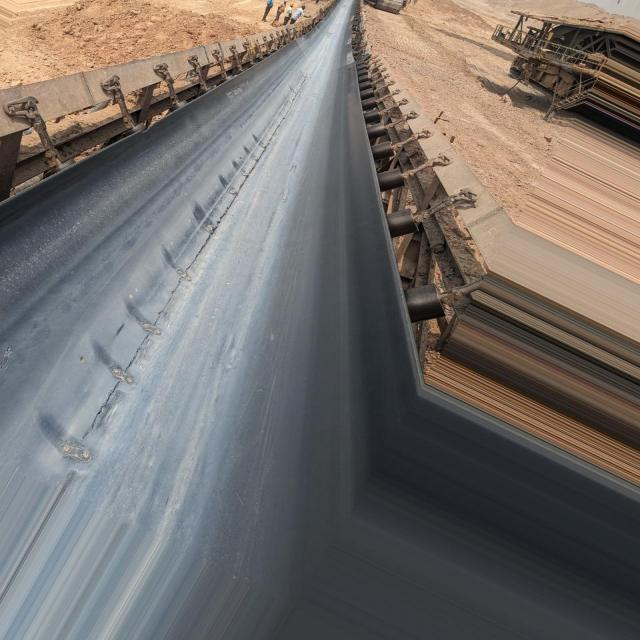Human: (261, 0, 311, 27)
Roller: (358, 75, 449, 325)
patch work: (42, 125, 276, 477)
